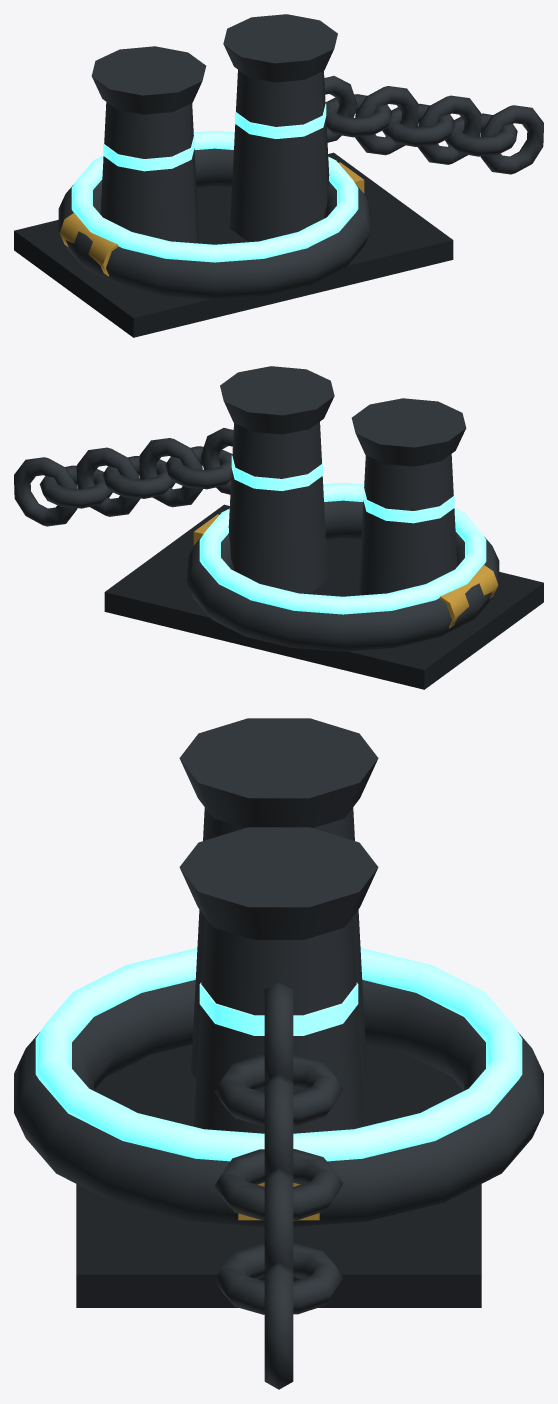
File: mount-shackle.glb
The picture shows the model from 3 angles, top to bottom: view 1: azimuth 30°, elevation 25°; view 2: azimuth 150°, elevation 25°; view 3: azimuth 270°, elevation 25°; orthographic projection. The views are drawn at different scales.
Visible parts, largest first — view 1: Mesh_Plate, Mesh_PostF, Mesh_Collar, Mesh_PostA, Mesh_CollarRune, Mesh_PostCapA, Mesh_PostCapF, Mesh_Link6, Mesh_Link2, Mesh_Link4, Mesh_Link5, Mesh_Link3 (+5 smaller); view 2: Mesh_Plate, Mesh_PostF, Mesh_Collar, Mesh_PostA, Mesh_CollarRune, Mesh_PostCapA, Mesh_PostCapF, Mesh_Link6, Mesh_Link2, Mesh_Link4, Mesh_Link3, Mesh_Link5 (+5 smaller); view 3: Mesh_Collar, Mesh_Plate, Mesh_CollarRune, Mesh_PostF, Mesh_PostCapF, Mesh_PostCapA, Mesh_Link5, Mesh_Link3, Mesh_Link1, Mesh_Link6, Mesh_PostA, Mesh_PostRuneF (+3 smaller).
Boxes of the visible parts, <box> form: Mesh_Plate: <box>14,152,453,337</box>; Mesh_PostF: <box>230,70,329,241</box>; Mesh_Collar: <box>58,148,370,299</box>; Mesh_PostA: <box>100,102,199,243</box>; Mesh_CollarRune: <box>71,131,358,262</box>; Mesh_PostCapA: <box>91,46,206,114</box>; Mesh_PostCapF: <box>223,14,337,82</box>; Mesh_Link6: <box>480,105,543,174</box>; Mesh_Link2: <box>355,86,418,155</box>; Mesh_Link4: <box>418,95,481,164</box>; Mesh_Link5: <box>445,113,517,156</box>; Mesh_Link3: <box>382,103,454,146</box>; Mesh_Plate: <box>104,504,543,689</box>; Mesh_PostF: <box>228,422,327,593</box>; Mesh_Collar: <box>187,500,499,651</box>; Mesh_PostA: <box>358,454,457,595</box>; Mesh_CollarRune: <box>199,483,486,614</box>; Mesh_PostCapA: <box>351,398,466,466</box>; Mesh_PostCapF: <box>220,366,334,434</box>; Mesh_Link6: <box>14,457,77,526</box>; Mesh_Link2: <box>139,438,202,507</box>; Mesh_Link4: <box>76,447,139,516</box>; Mesh_Link3: <box>102,456,175,498</box>; Mesh_Link5: <box>39,465,112,508</box>; Mesh_Collar: <box>14,980,543,1226</box>; Mesh_Plate: <box>76,1044,481,1307</box>; Mesh_CollarRune: <box>35,948,522,1161</box>; Mesh_PostF: <box>193,916,364,1133</box>; Mesh_PostCapF: <box>179,827,378,939</box>; Mesh_PostCapA: <box>179,718,378,827</box>; Mesh_Link5: <box>214,1243,343,1314</box>; Mesh_Link3: <box>214,1149,343,1220</box>; Mesh_Link1: <box>214,1054,343,1126</box>; Mesh_Link6: <box>264,1262,293,1389</box>; Mesh_PostA: <box>191,807,366,1078</box>; Mesh_PostRuneF: <box>199,982,358,1035</box>.
Size of the model in its own units: 2.5 by 1.04 by 1.44.
